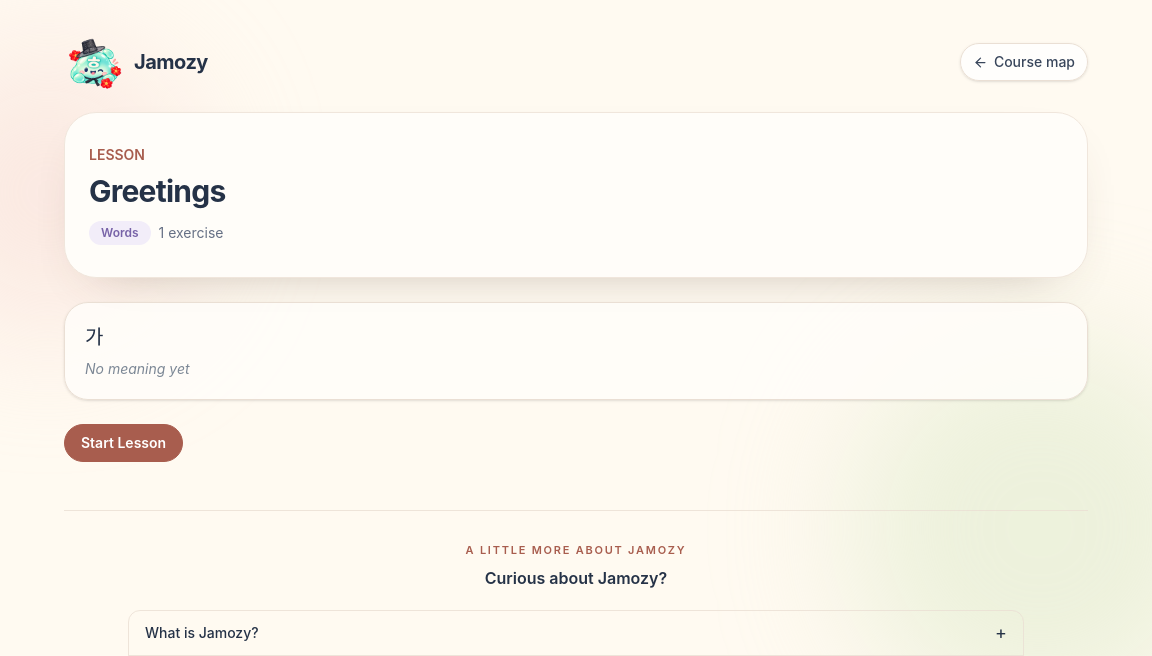
LessonDetailPage › counts every wrong keystroke while listing a mistyped word once
The image size is (1152, 656).
Click the button "Start Lesson".
click(124, 443)  # box [64, 424, 183, 462]
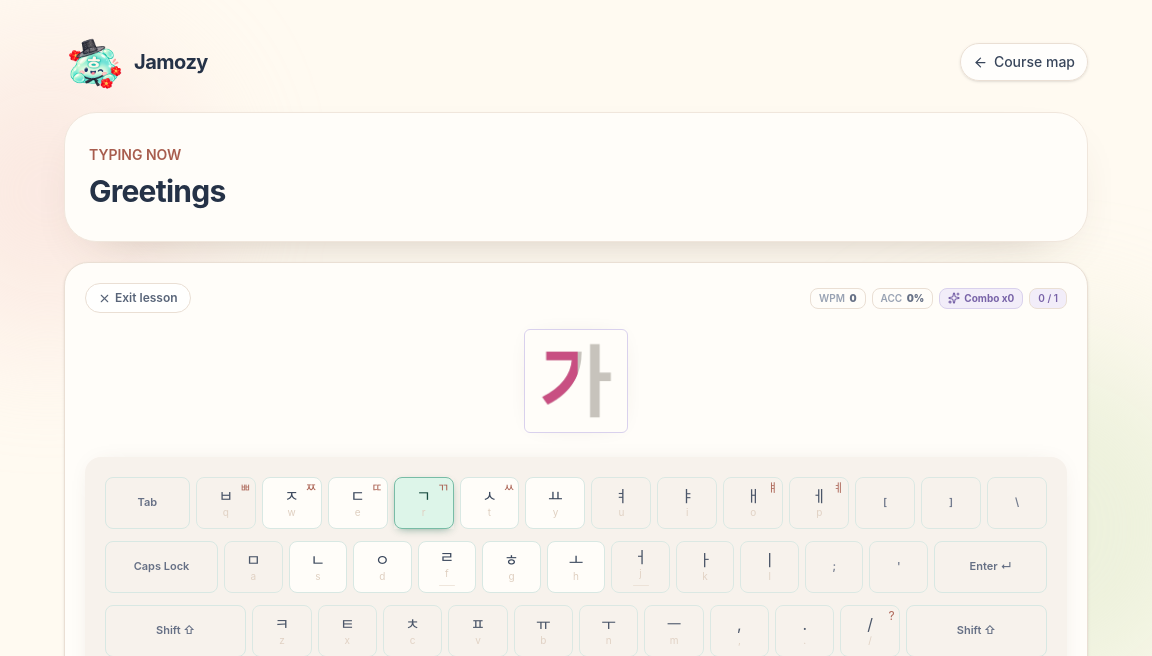
Press KeyQ
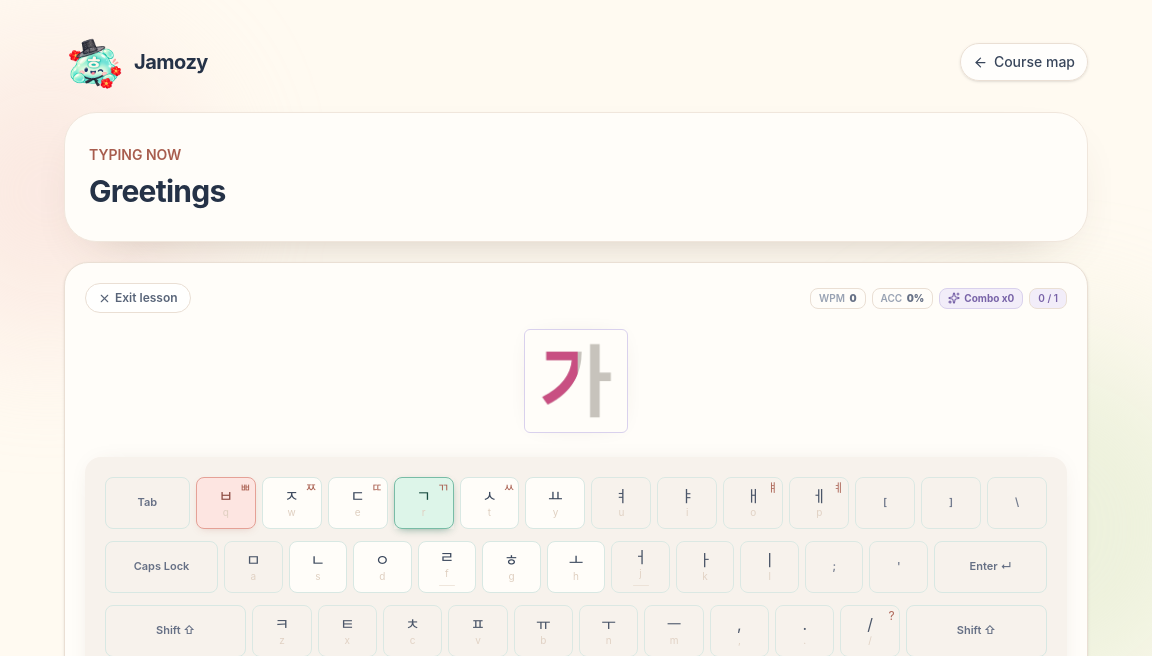
Press KeyW
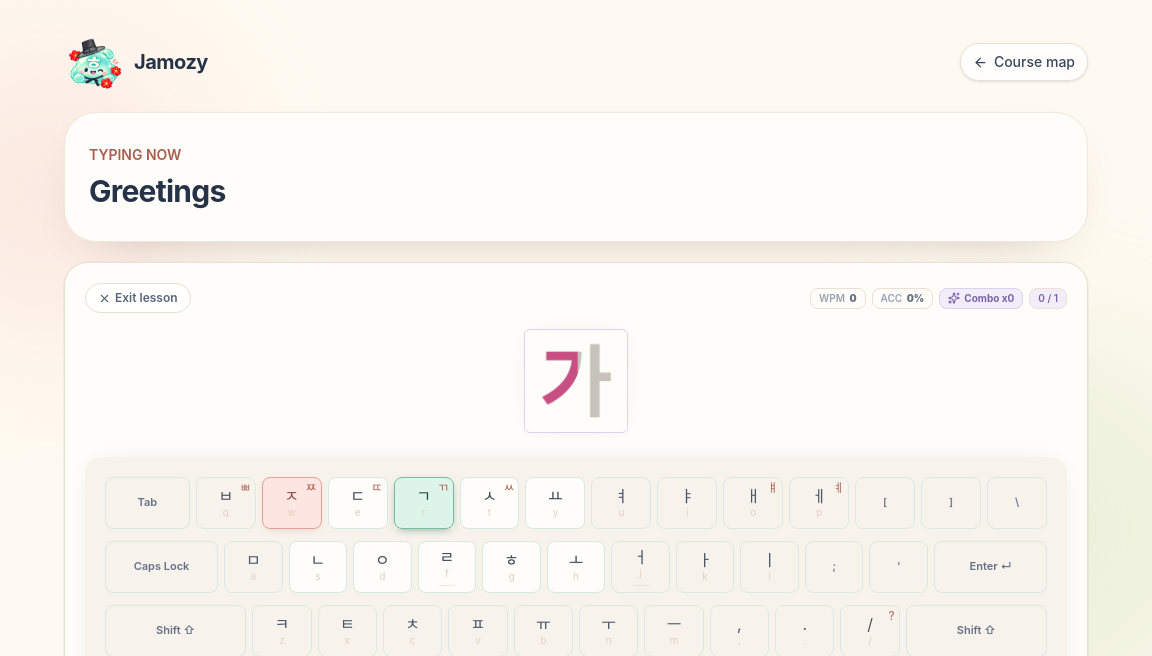
Press KeyR
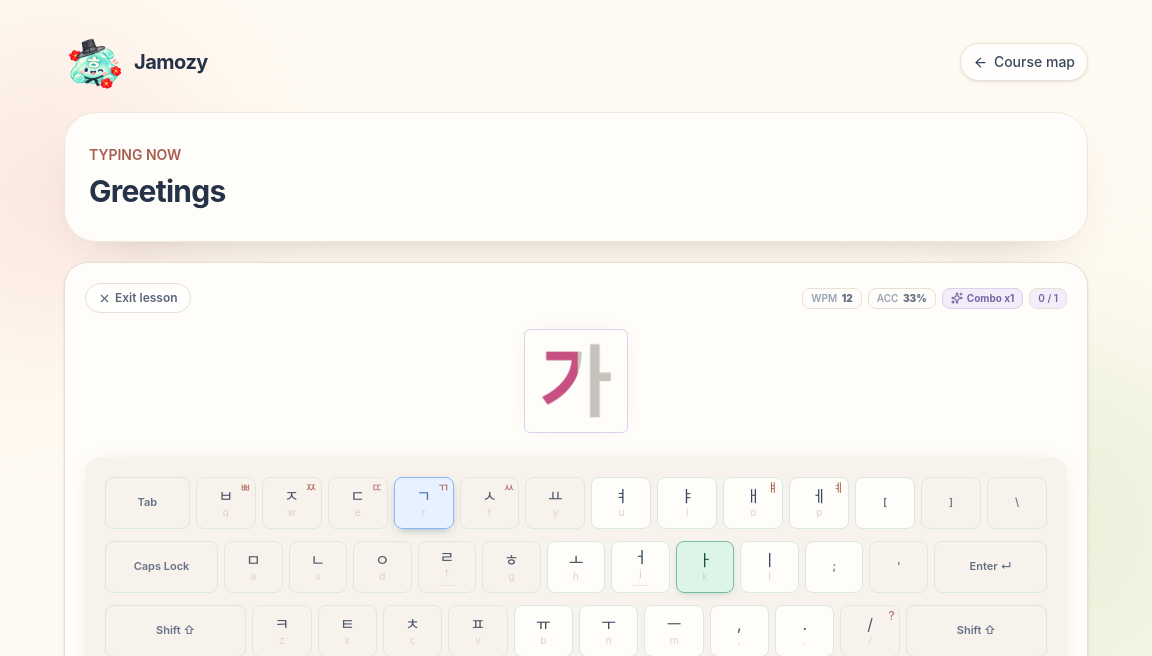
Press KeyK
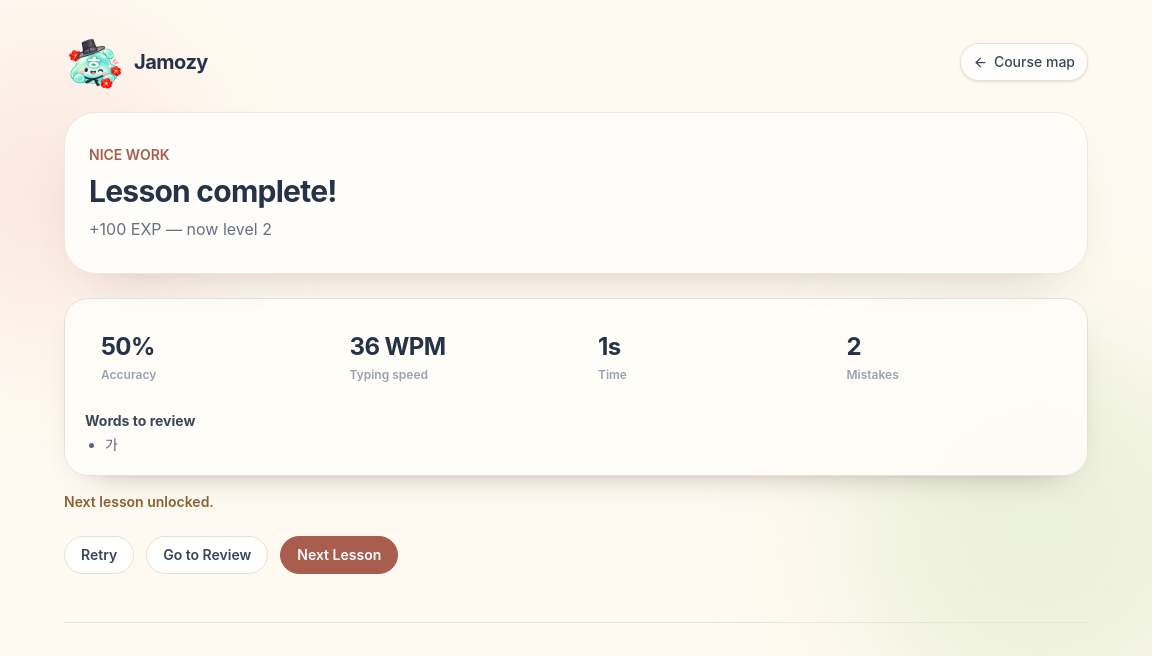
Expected: the element named "Lesson results" shows "Accuracy 50%", [64, 298, 1088, 476]
Expected: the element named "Lesson results" shows "Mistakes 2", [64, 298, 1088, 476]
Expected: the list item "가" is shown, [105, 436, 118, 453]
